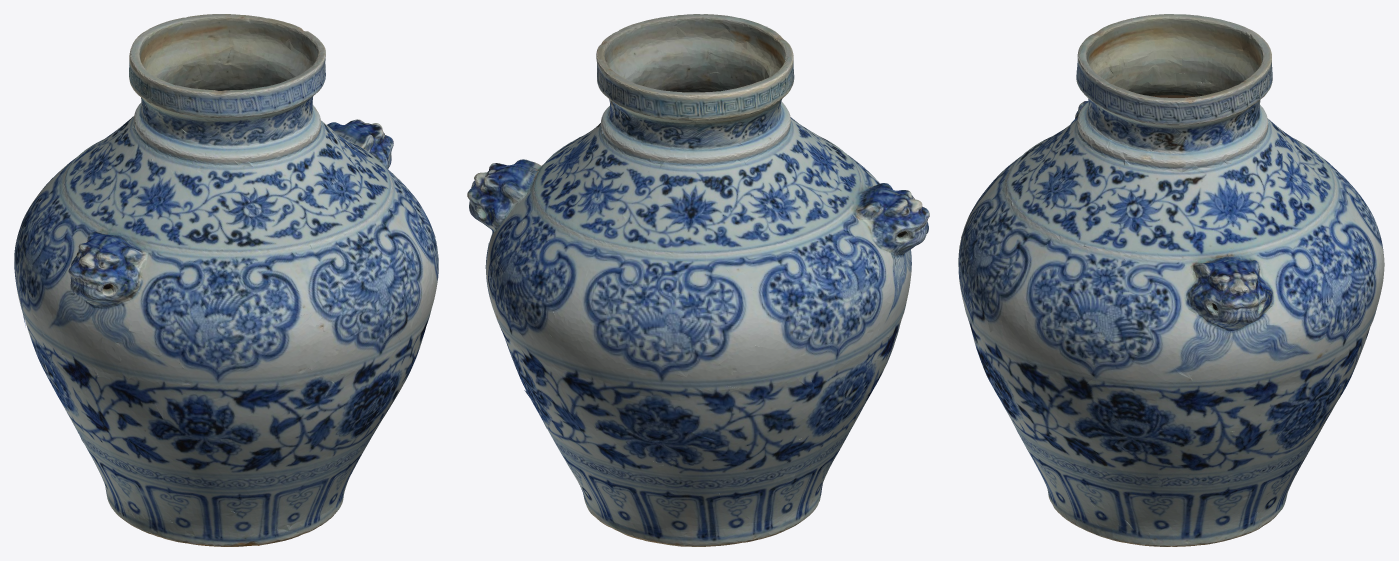
3 views of the same model, side by side, from view 1: azimuth 30°, elevation 25°; view 2: azimuth 150°, elevation 25°; view 3: azimuth 270°, elevation 25° (orthographic).
Parts seen in each view (by area): view 1: geometry_0; view 2: geometry_0; view 3: geometry_0.
Part boxes in pixels (x1,y1,x2,y2): geometry_0: (14,14,438,546); geometry_0: (467,14,929,546); geometry_0: (958,14,1384,546).
Bounding box in the file's own units: 0.9039 × 1 × 0.8608.
Materials: 1 (1 with a texture image).
